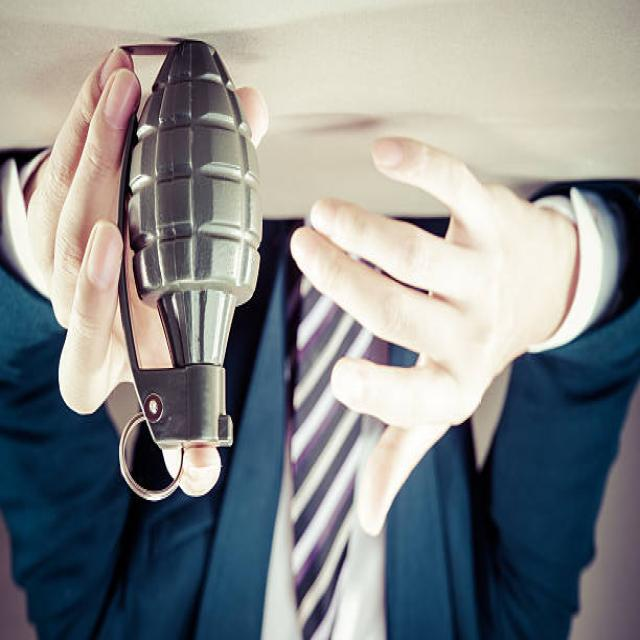grenade: (108, 32, 273, 505)
